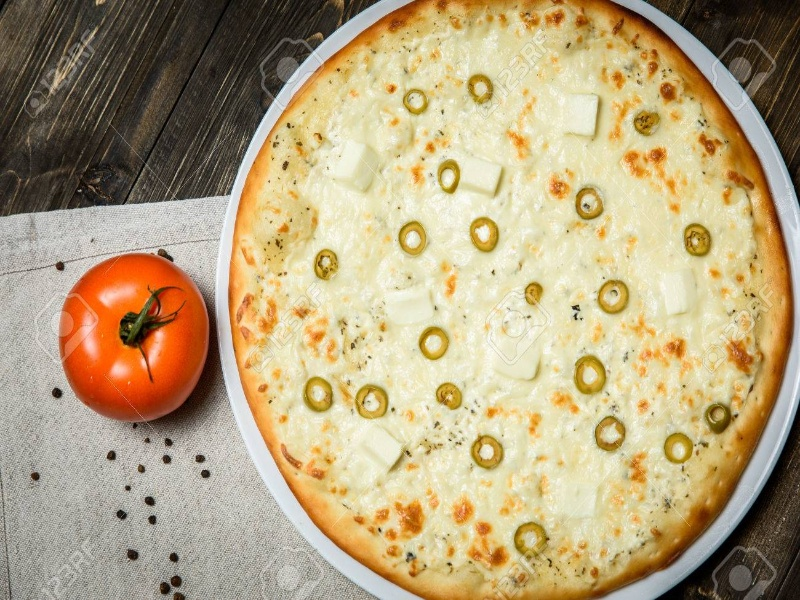olive verte: (299, 372, 338, 414), (465, 216, 505, 256), (514, 520, 553, 560), (569, 354, 606, 396), (656, 431, 697, 467), (352, 384, 394, 418), (468, 436, 507, 472), (592, 413, 628, 451), (416, 326, 451, 365), (680, 222, 719, 256), (397, 218, 429, 257), (463, 73, 501, 105), (702, 399, 736, 432), (599, 277, 630, 313), (573, 186, 603, 222), (435, 156, 461, 197), (433, 382, 468, 412), (307, 249, 342, 278), (402, 86, 432, 118)
